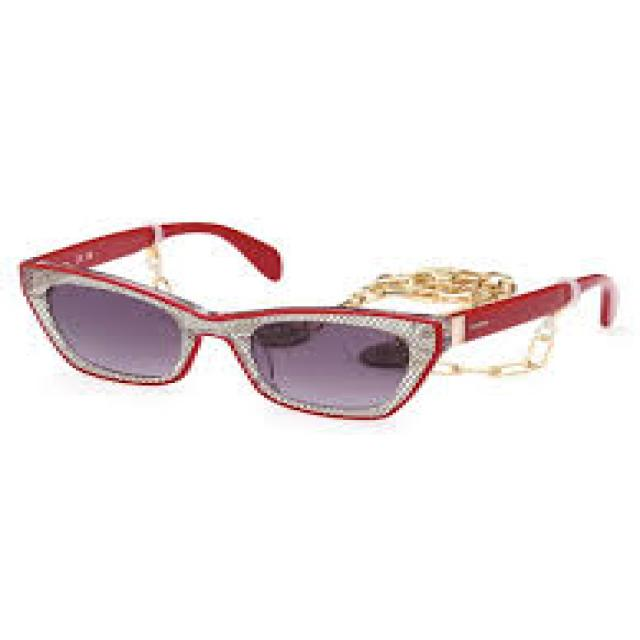sunglasses: (12, 198, 540, 428)
